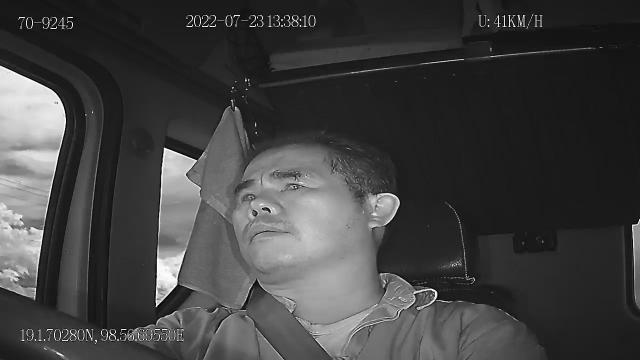SafeDriving: (272, 170, 319, 197), (233, 186, 264, 209)
Seatbelt: (247, 288, 336, 360)
